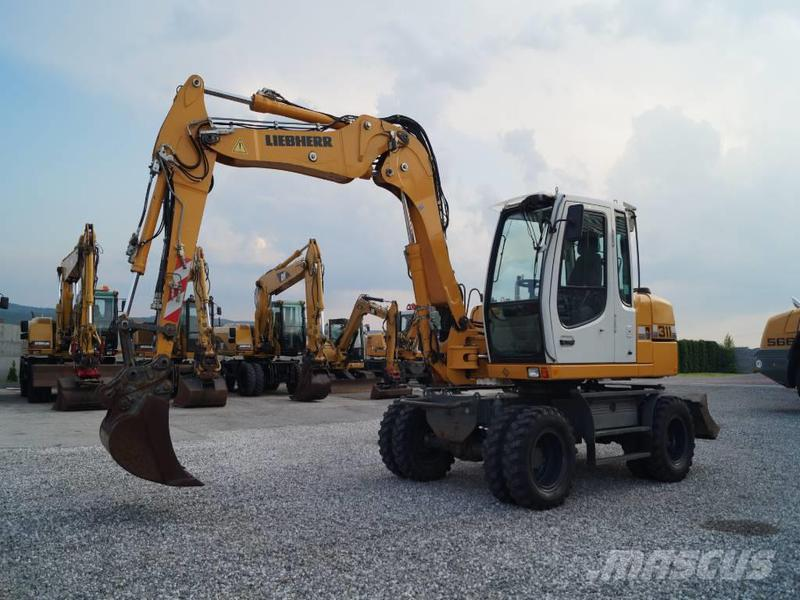shovel: (97, 69, 721, 495)
